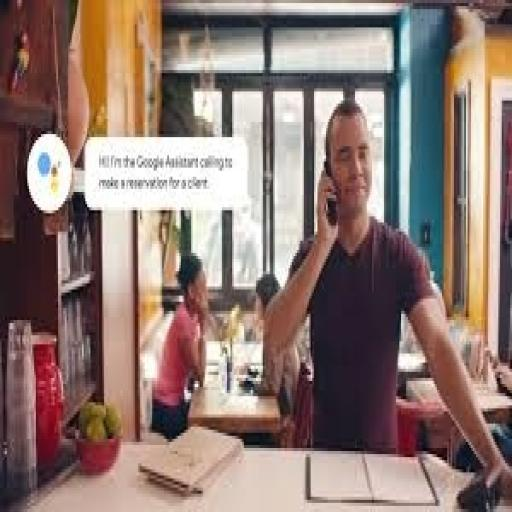calling: (261, 94, 510, 506)
